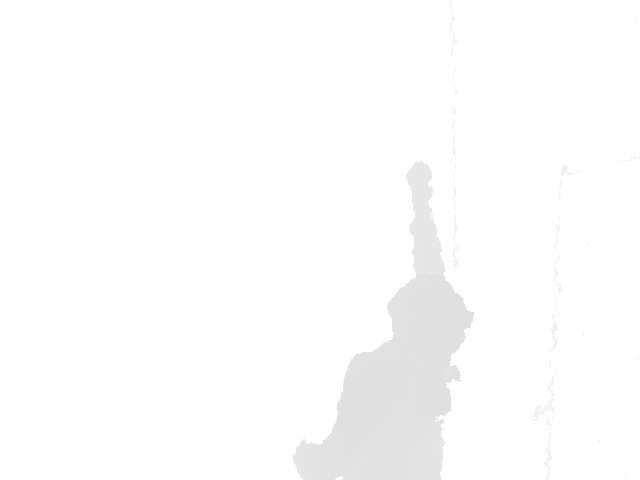hand: (405, 159, 434, 201)
head: (386, 272, 473, 348)
person: (291, 159, 476, 479)
